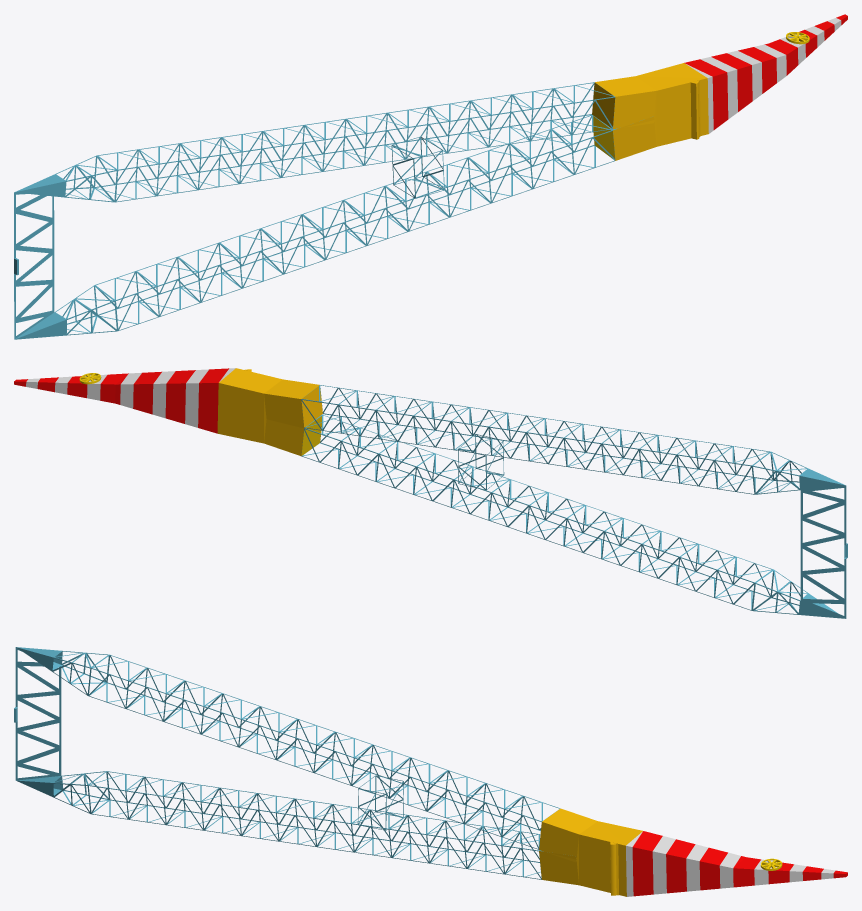
File: Boom.glb
3 views of the same model, one above another, from view 1: azimuth 30°, elevation 25°; view 2: azimuth 150°, elevation 25°; view 3: azimuth 330°, elevation 25° (orthographic). The views are drawn at different scales.
Parts seen in each view (by area): view 1: G-Object.002; view 2: G-Object.002; view 3: G-Object.002.
Part boxes in pixels (box(x1,y1,x2,y2)): G-Object.002: box(14, 14, 847, 339); G-Object.002: box(14, 368, 847, 618); G-Object.002: box(14, 647, 847, 896).
Size of the model in its own units: 156 by 27.43 by 17.43.
